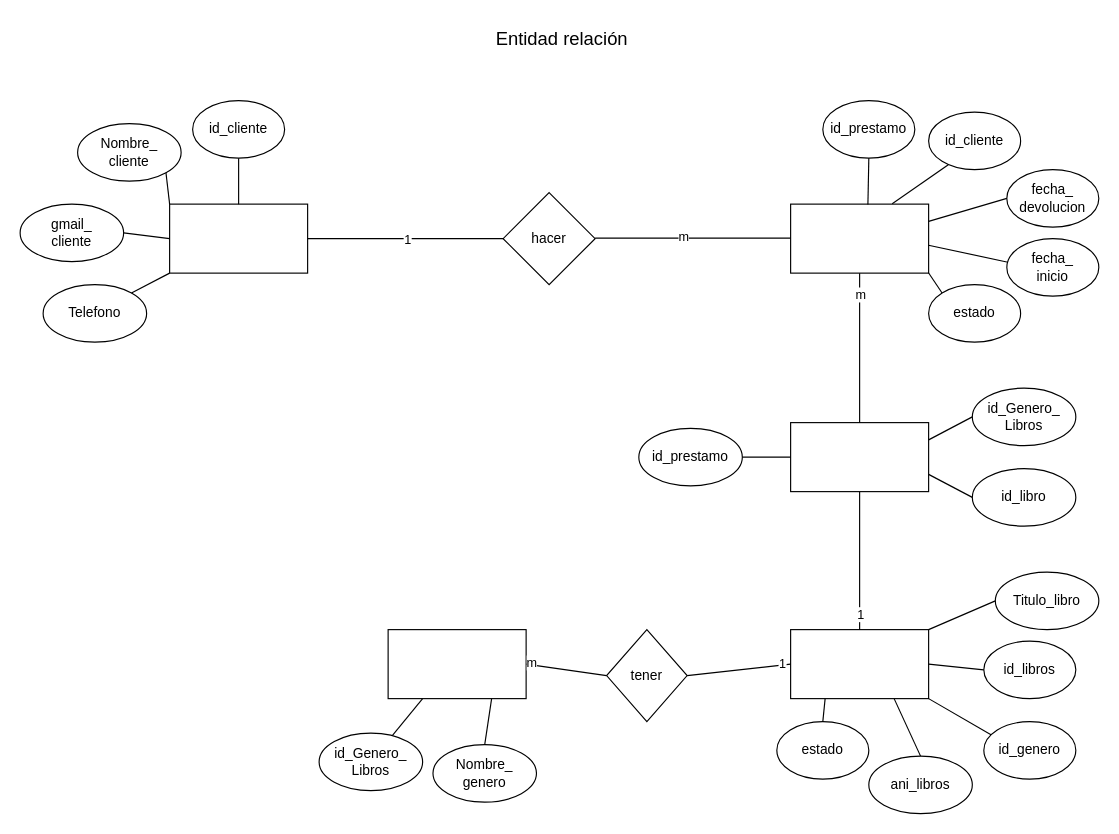
This 1119x834 diagram has some shape labels left out. Each missing label, with the centre of its shape:
"Clientes" goes at point (238, 238).
"Detalles_prestamos" goes at point (859, 456).
"Genero_Libros" goes at point (456, 663).
"Libros" goes at point (859, 663).
"Prestamos" goes at point (859, 238).
